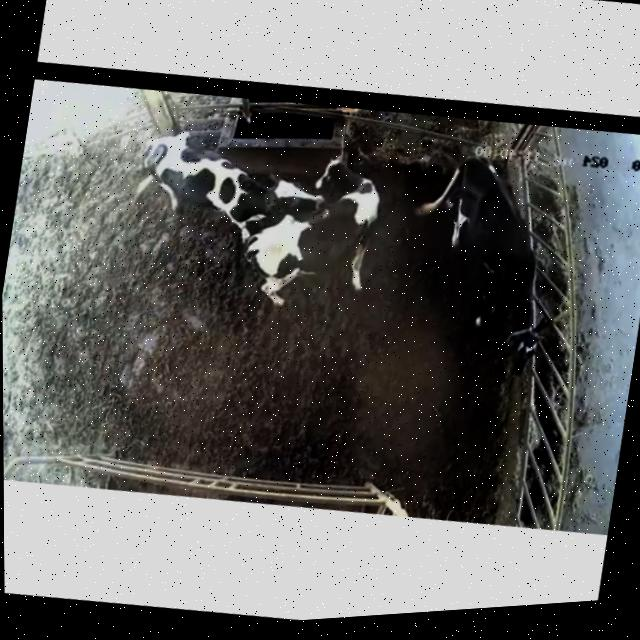propping: (222, 163, 346, 246)
